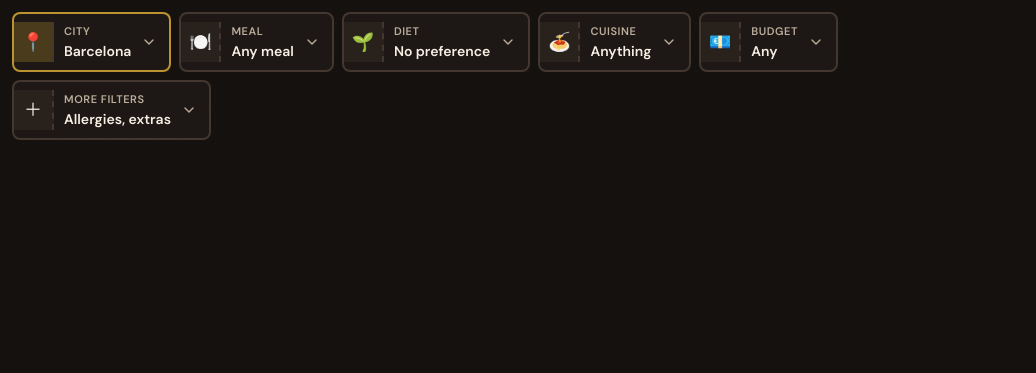
it: PreferenceChips › adds custom cuisines and allergies, and removes them again
The image size is (1036, 373).
Click the button "🍝 Cuisine Anything".
click(615, 42)  # box [538, 12, 691, 72]
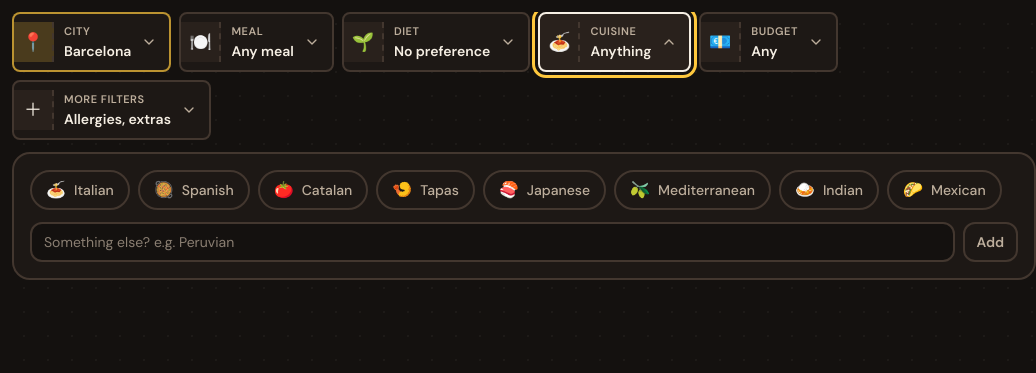
Type "Peruvian" into the field named "Add another cuisine".
click(492, 242); type("Peruvian")  # box [30, 222, 954, 262]
Then press Enter
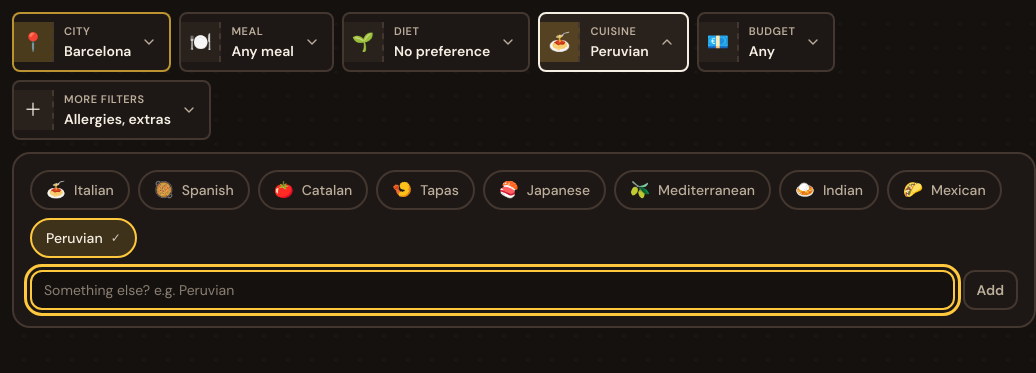
Click the button with aria-label "Remove Peruvian".
click(83, 238)  # box [30, 218, 137, 258]
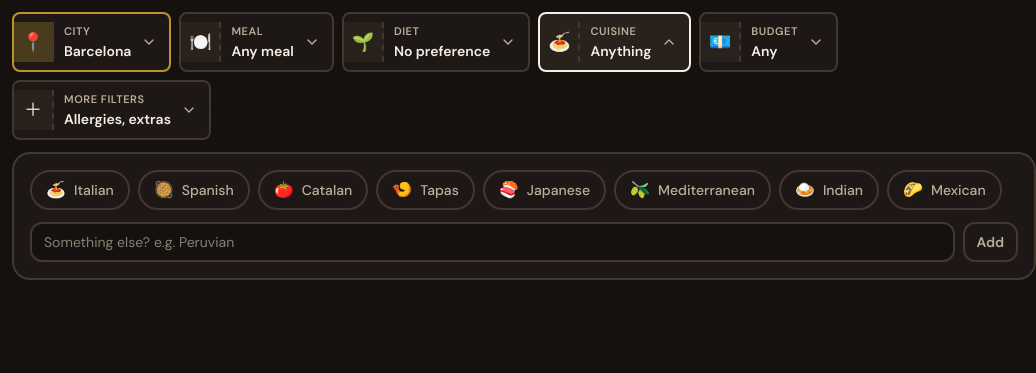
Click the button "＋ More filters Allergies, extras".
click(112, 110)  # box [12, 80, 211, 140]
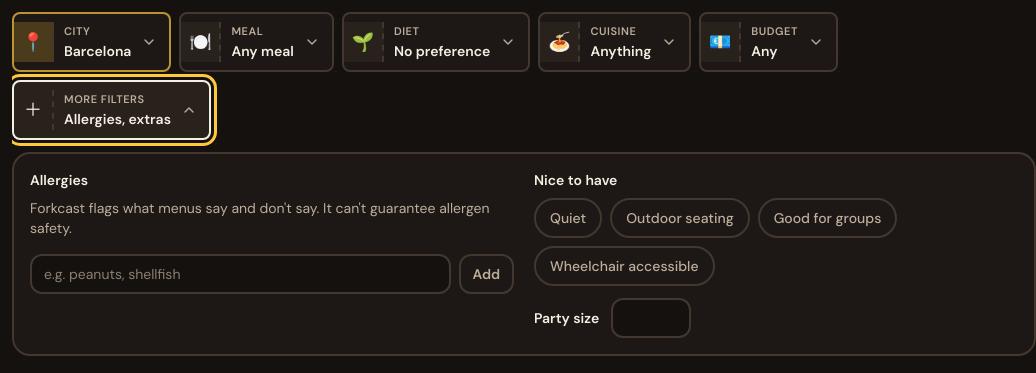
Type "peanuts" into the field named "Add an allergy".
click(240, 274); type("peanuts")  # box [30, 254, 450, 294]
Then press Enter
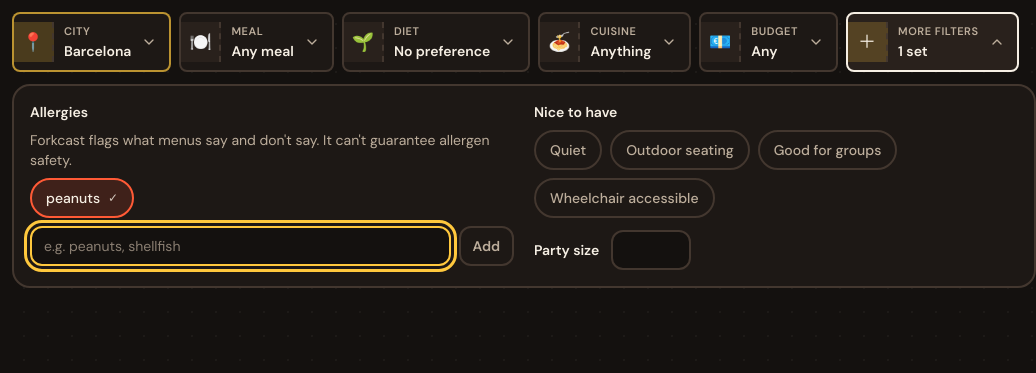
expect the button "＋ More filters 1 set" is shown: met, box [846, 12, 1019, 72]
